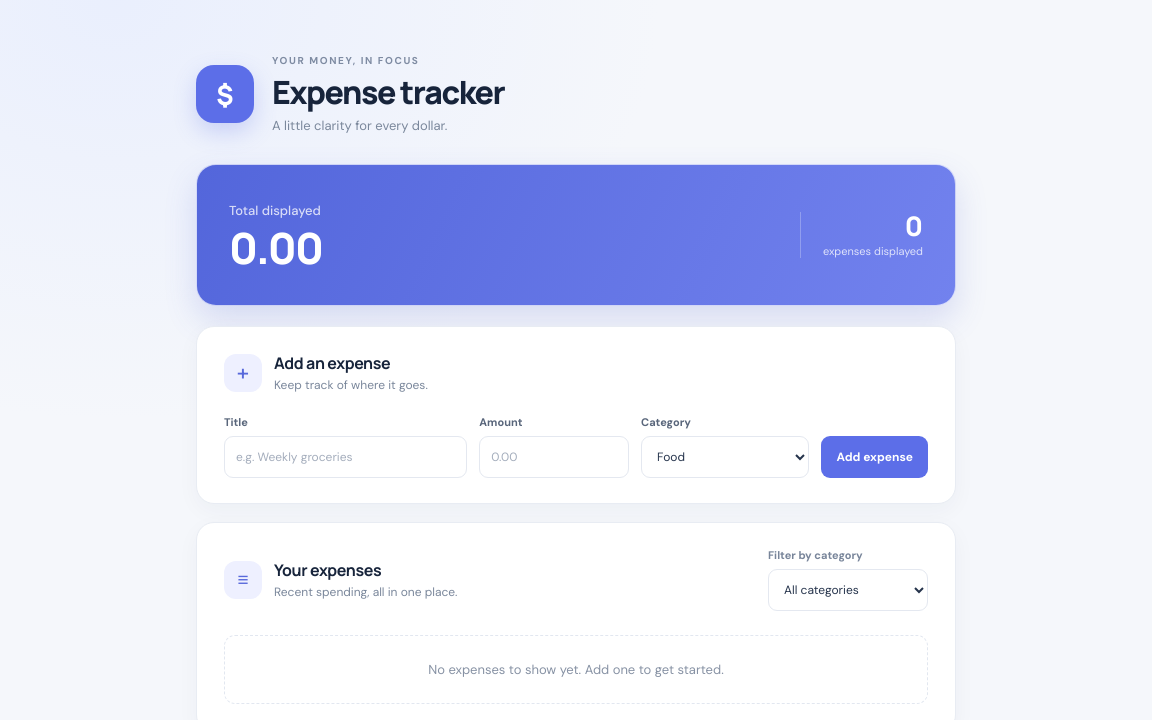
Test case: Expense tracker › deletes an expense and updates the total and count
The width and height of the screenshot is (1152, 720).
Type "Snack" into the field with test id "title".
click(346, 457); type("Snack")  # box [224,436,467,478]
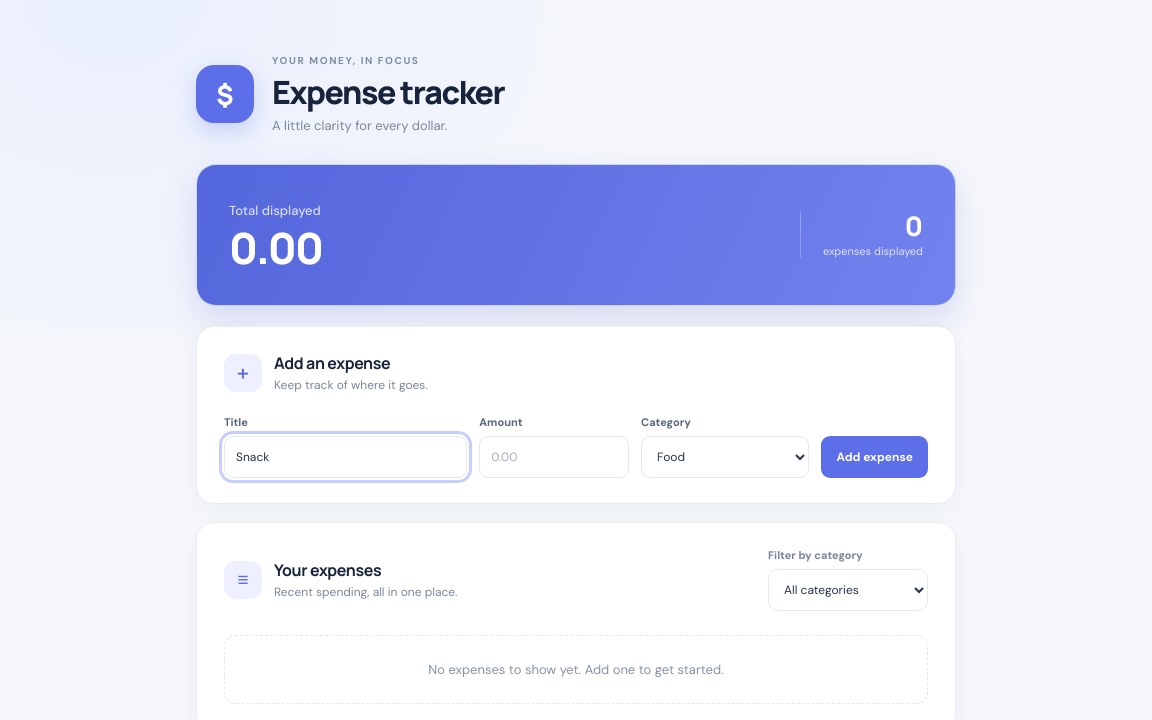
Type "12.50" into the number field with test id "amount".
click(554, 457); type("12.50")  # box [479,436,629,478]
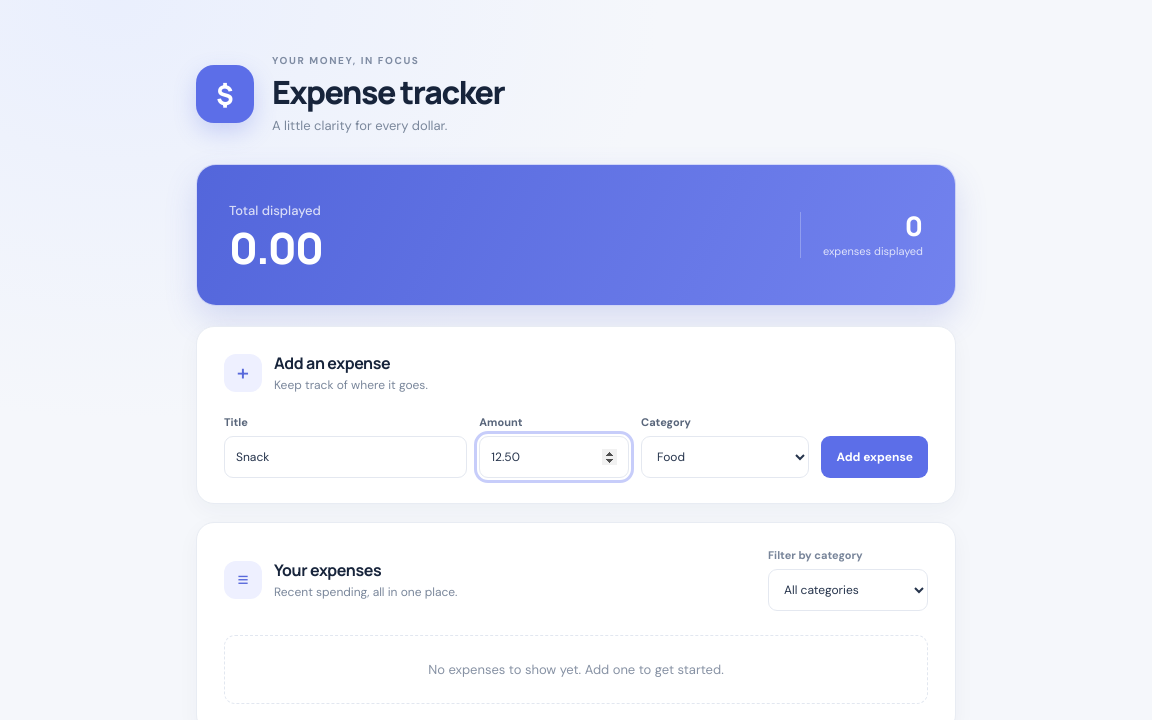
Click the button with test id "add-expense".
click(876, 457)  # box [822,436,929,478]
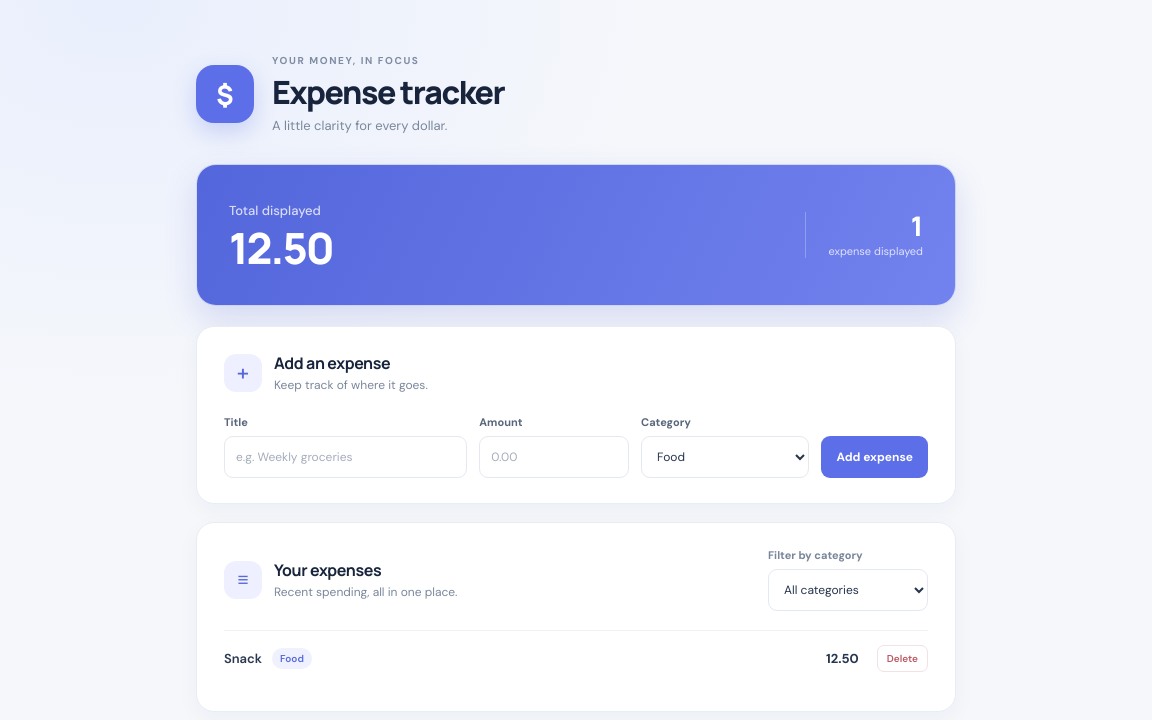
Click the button with test id "delete-expense".
click(903, 659)  # box [877,645,928,672]
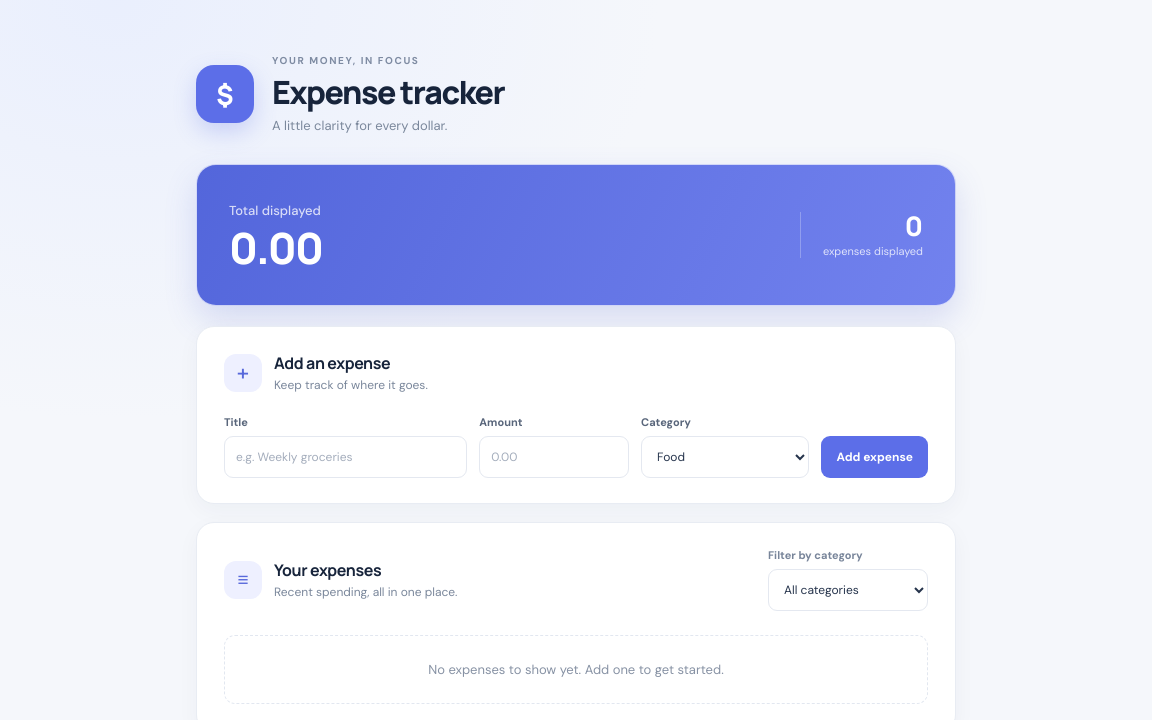
Now the list item with test id "expense-item" is gone
Now the text with test id "total" reads "0.00", box [229,218,322,277]
Now the text with test id "count" reads "0", box [905,207,923,244]
